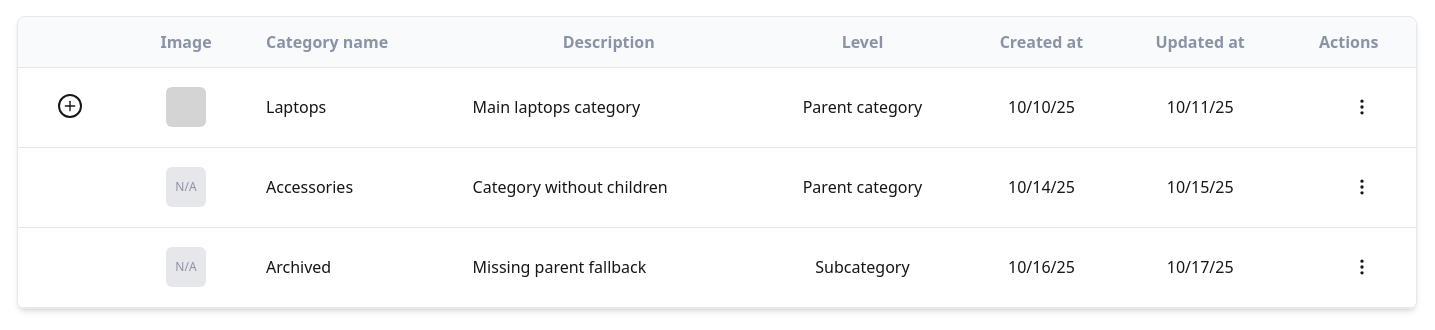
it: UI Component: TableCategories › should disable delete button for currently deleting category
The width and height of the screenshot is (1435, 330).
Click the button named "Actions for Accessories" at {"x": 1362, "y": 187}, box [1332,166,1392,208]
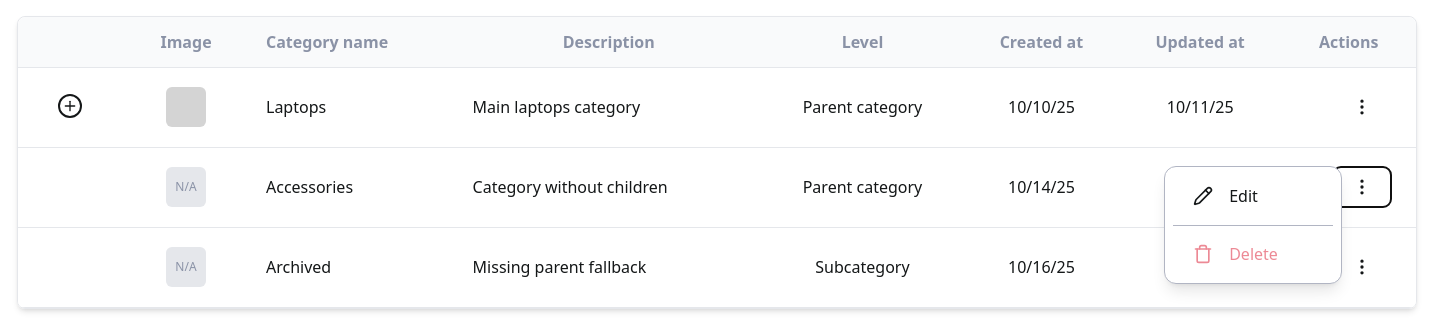
Expected: the button "Delete" is disabled, [1173,234,1298,275]
